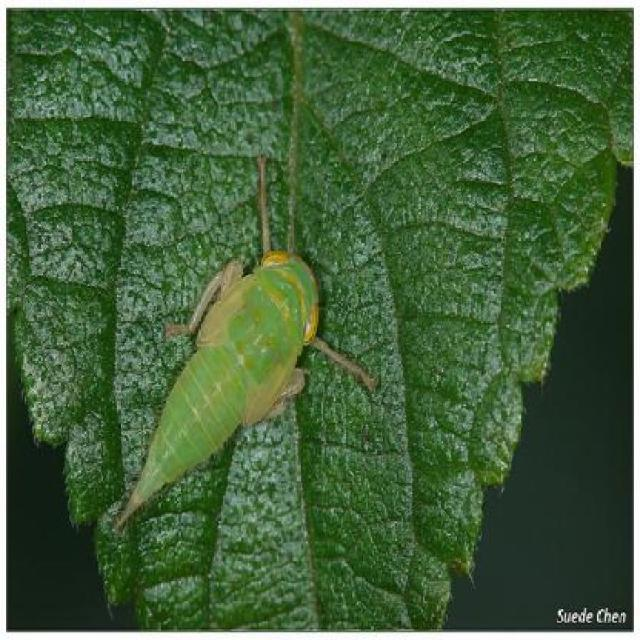green-leafhopper: (119, 248, 318, 526)
